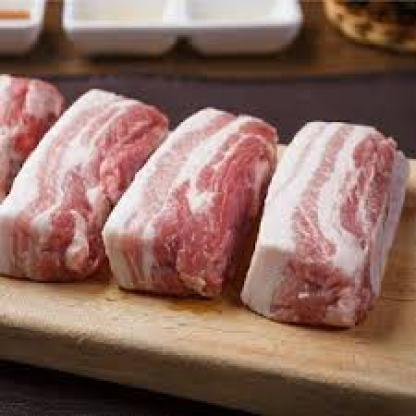pork: (250, 118, 406, 333), (20, 83, 159, 279), (129, 102, 264, 303)
